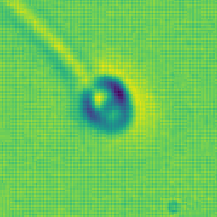normal: (1, 1, 96, 87)
